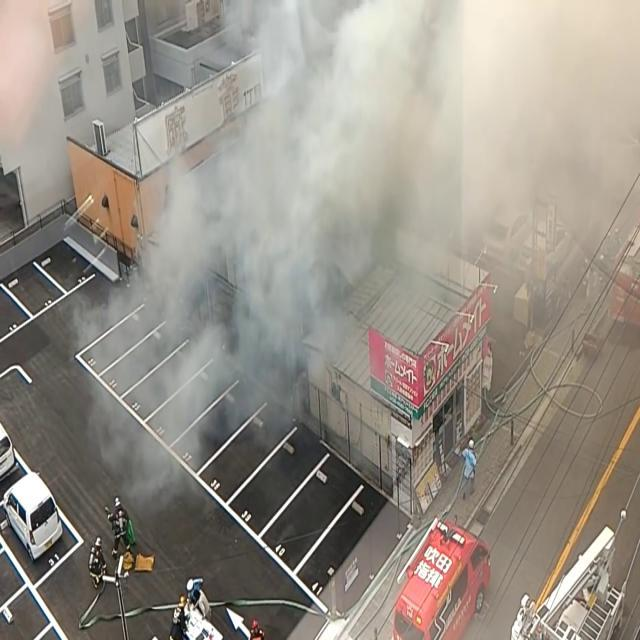Smoke: (110, 0, 638, 414)
